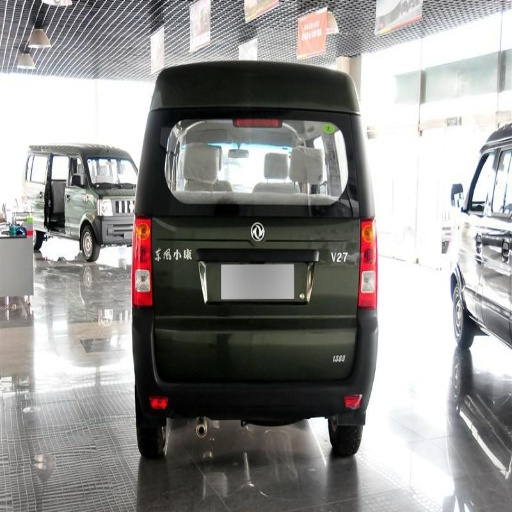back_bumper: (213, 309, 380, 418)
back_glass: (151, 80, 348, 201)
back_left_light: (131, 215, 153, 305)
back_right_door: (464, 197, 496, 308)
tailgate: (151, 182, 349, 301)
trunk: (158, 218, 358, 379)
